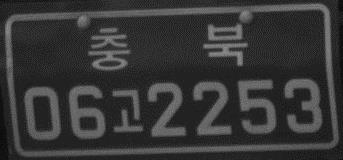0: (22, 85, 62, 142)
2: (144, 80, 190, 142), (193, 77, 233, 139)
3: (282, 76, 324, 135)
5: (234, 74, 279, 134)
6: (67, 83, 106, 143)
고: (108, 85, 144, 136)
충북_D: (85, 17, 249, 72)
